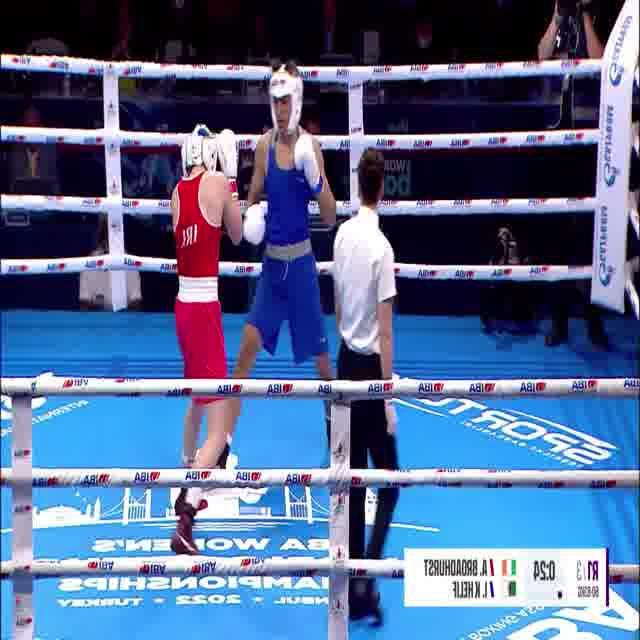blue-player: (196, 49, 345, 480)
red-player: (160, 119, 242, 561)
referee: (326, 146, 411, 626)
